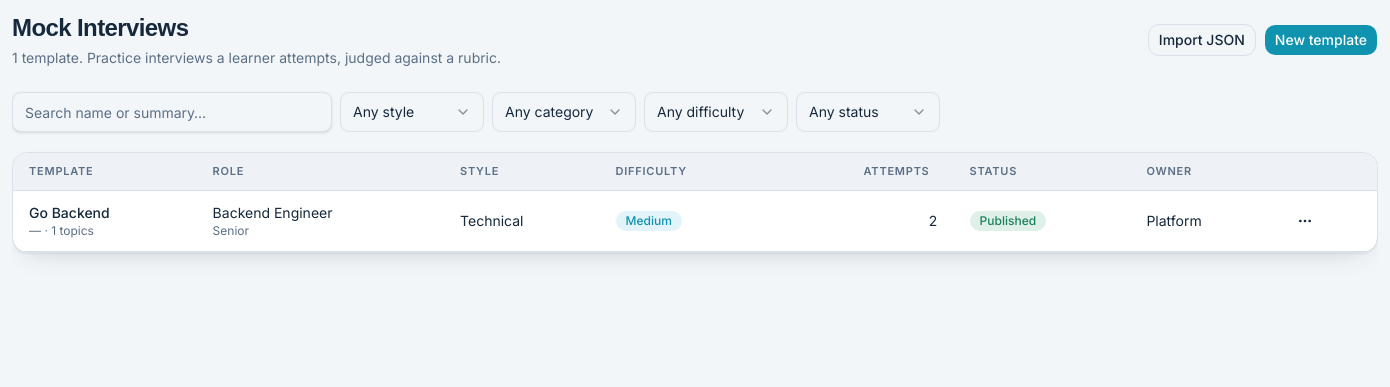
it: MockInterviewsTable › says "nothing matches" — not "not authored" — when a filter narrows the list to zero
Expected: the text "Go Backend" is shown, [29,202,110,222]
Type "nothing-will-match" into the field named "Search mock interview templates" at (172, 112), box [12,92,332,132]
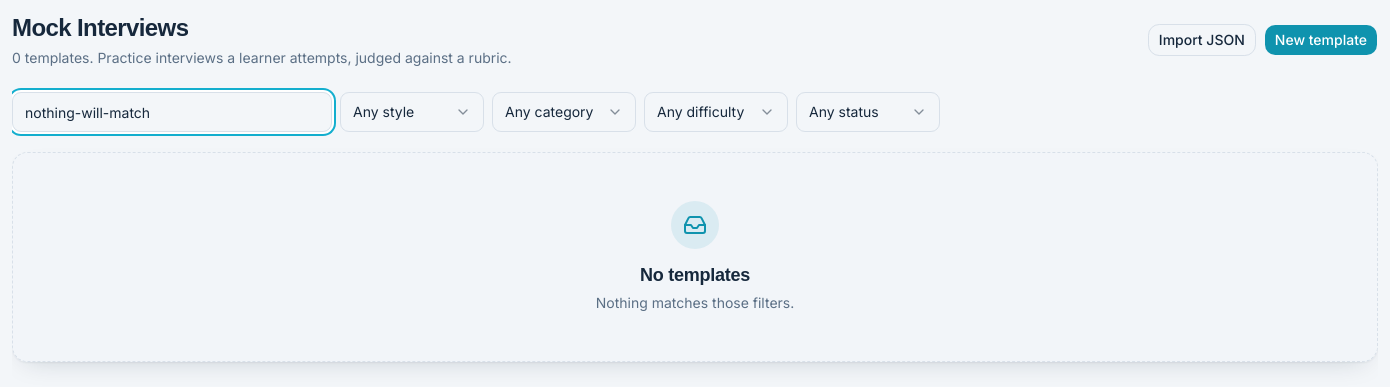
Expected: the text "Nothing matches those filters." is shown, [596,293,794,313]
